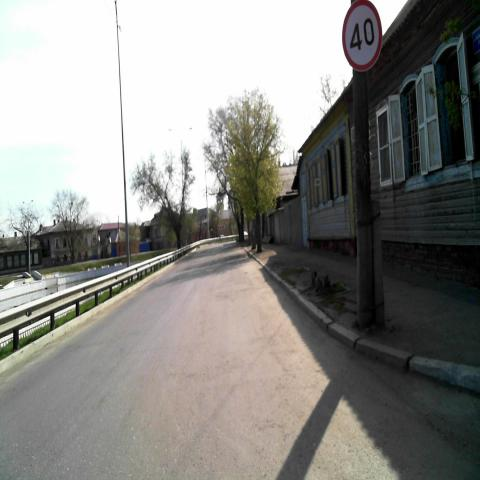3_24: (342, 0, 383, 72)
